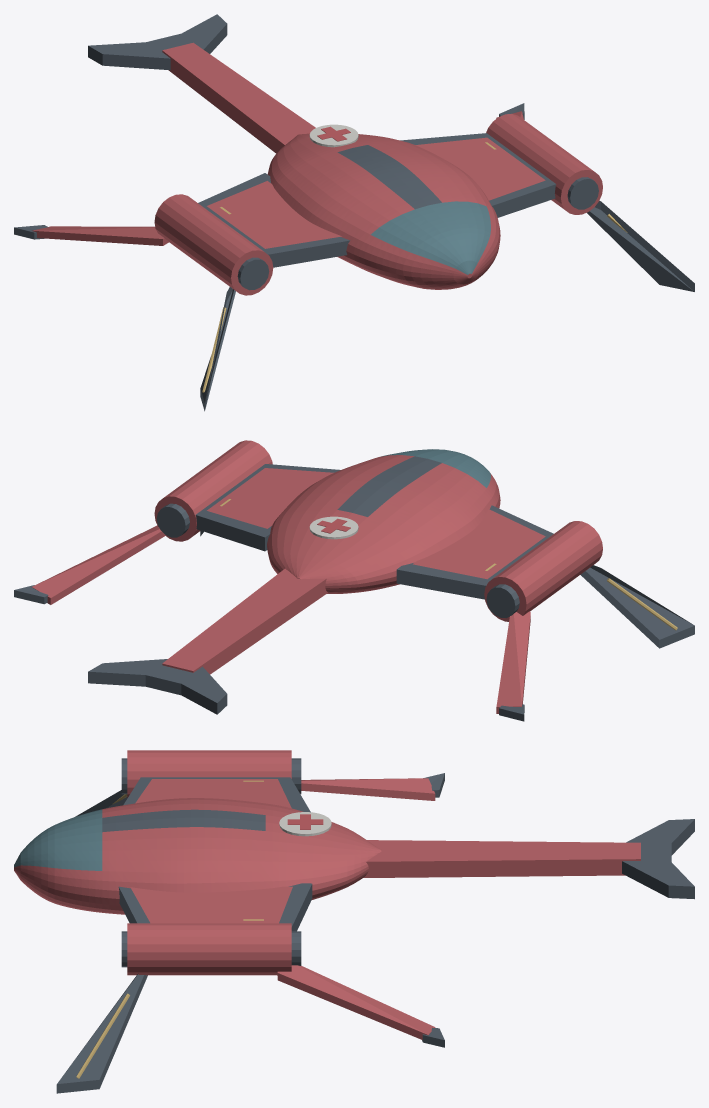
File: medtech_red_off.glb
3 renders of one model, top to bottom at view 1: azimuth 30°, elevation 25°; view 2: azimuth 150°, elevation 25°; view 3: azimuth 270°, elevation 25°, orthographic. The views are drawn at different scales.
Parts seen in each view (by area): view 1: material_0, material_2, material_1, material_4; view 2: material_0, material_2, material_1, material_4; view 3: material_0, material_2, material_1, material_4, material_3.
Part boxes in pixels (box(x1,y1,x2,y2)): material_0: box(32, 42, 602, 295); material_2: box(14, 14, 694, 411); material_1: box(370, 201, 490, 274); material_4: box(309, 124, 358, 147); material_0: box(32, 440, 602, 713); material_2: box(14, 456, 694, 721); material_1: box(381, 449, 490, 487); material_4: box(309, 516, 358, 539); material_0: box(14, 750, 640, 1039); material_2: box(56, 758, 694, 1093); material_1: box(14, 809, 102, 870); material_4: box(279, 812, 331, 836); material_3: box(76, 780, 263, 1078).
Bounding box in the file's own units: 4.58 × 1.21 × 4.93.
